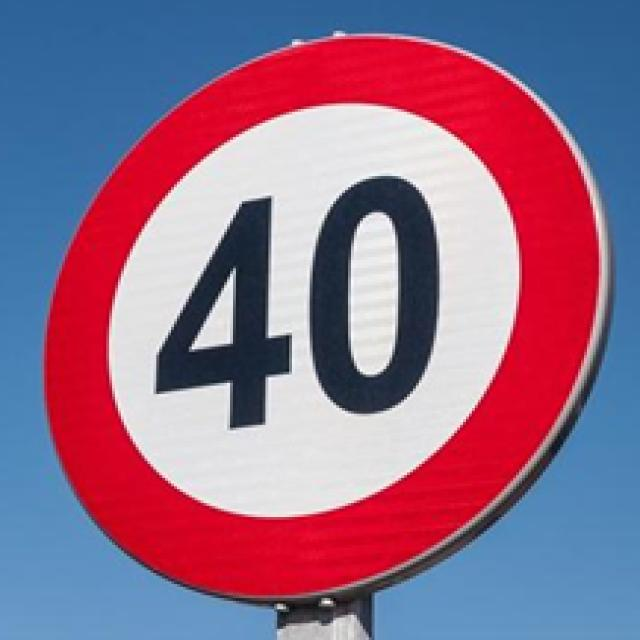speed limit 40: (41, 32, 615, 604)
